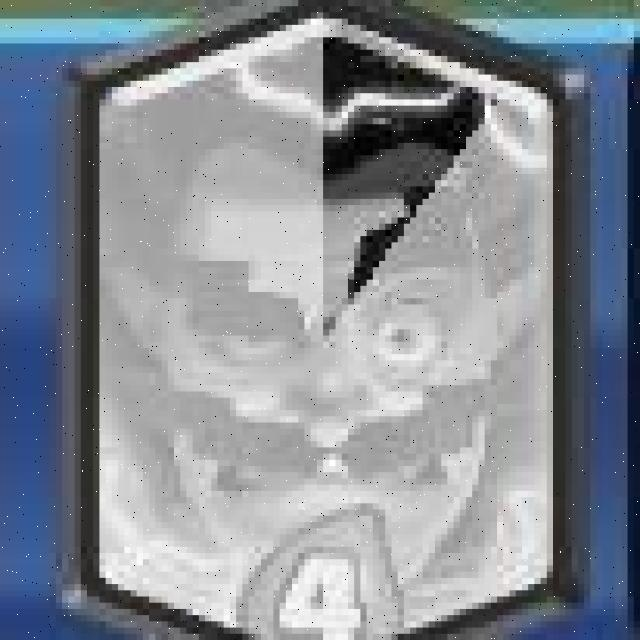Electro_Wizard: (75, 1, 569, 638)
